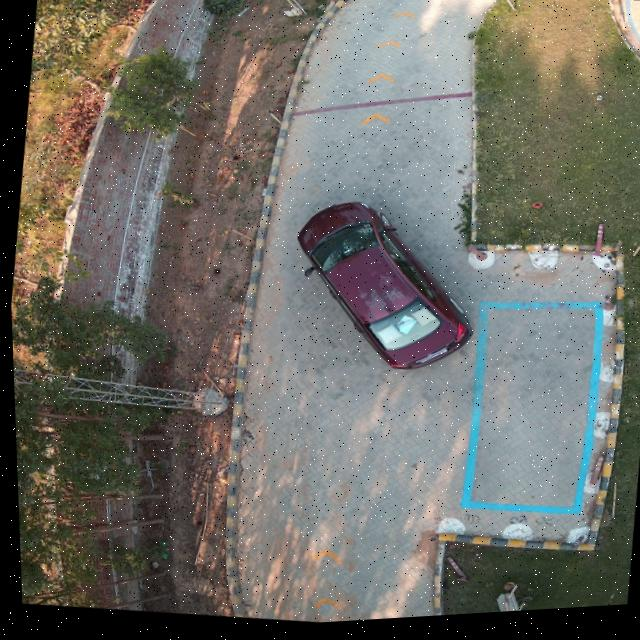car: (295, 205, 468, 373)
